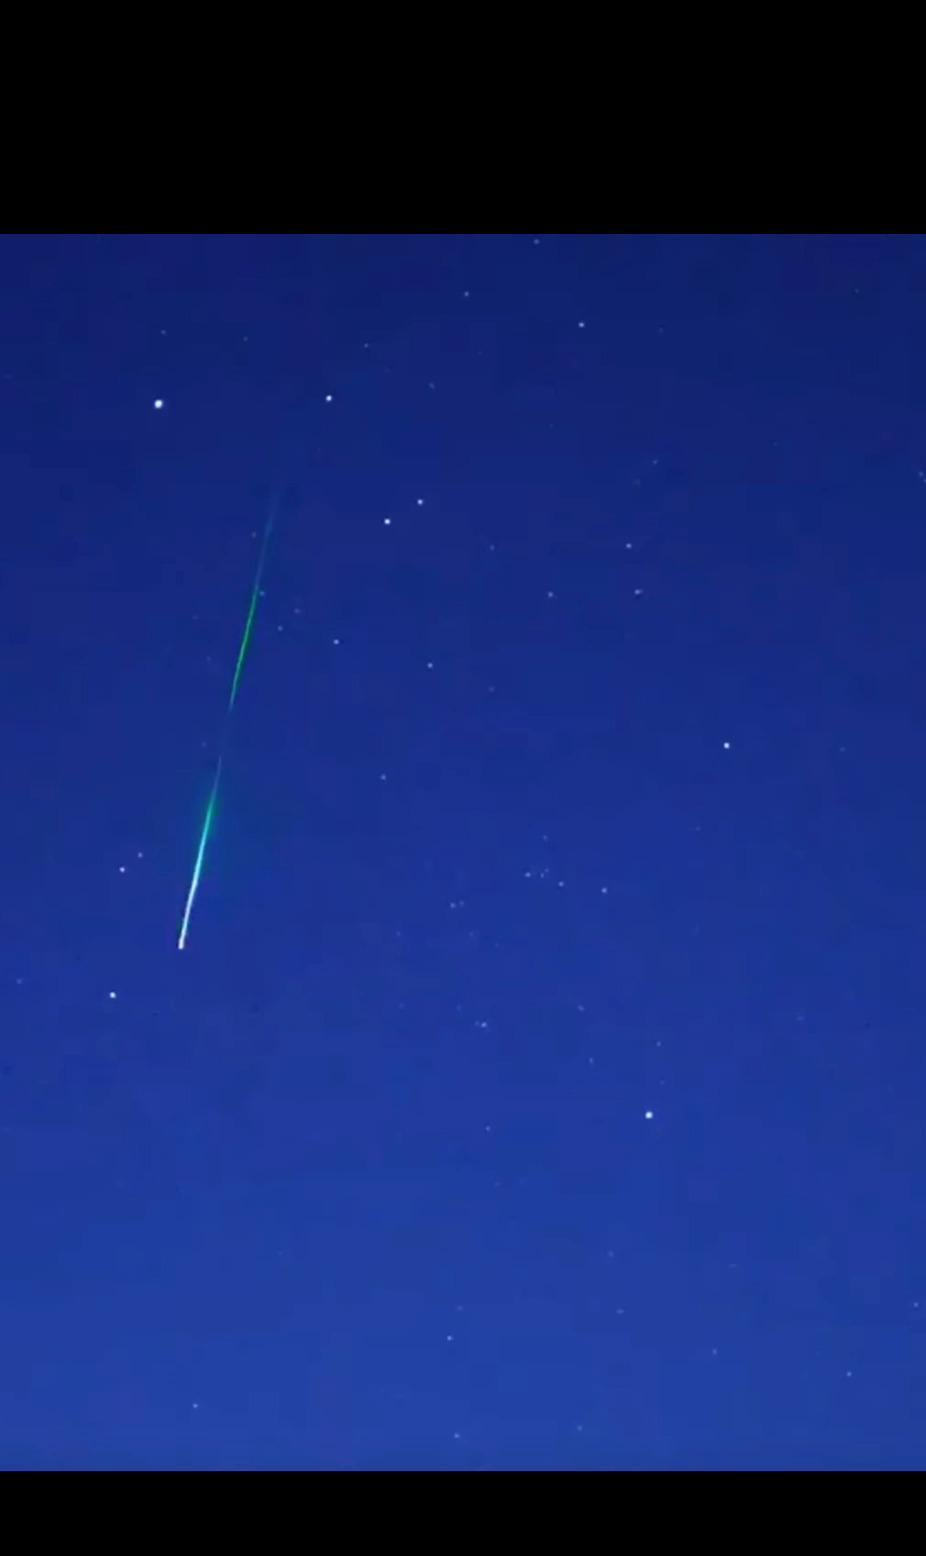meteorite: (140, 460, 298, 969)
